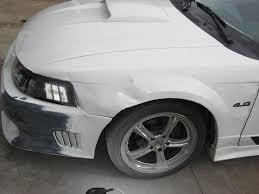fender-dent: (103, 54, 215, 109)
front-bumper-dent: (3, 95, 88, 156)
